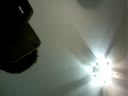window: (0, 8, 31, 96), (39, 45, 64, 63), (38, 86, 70, 96), (94, 67, 98, 73)
